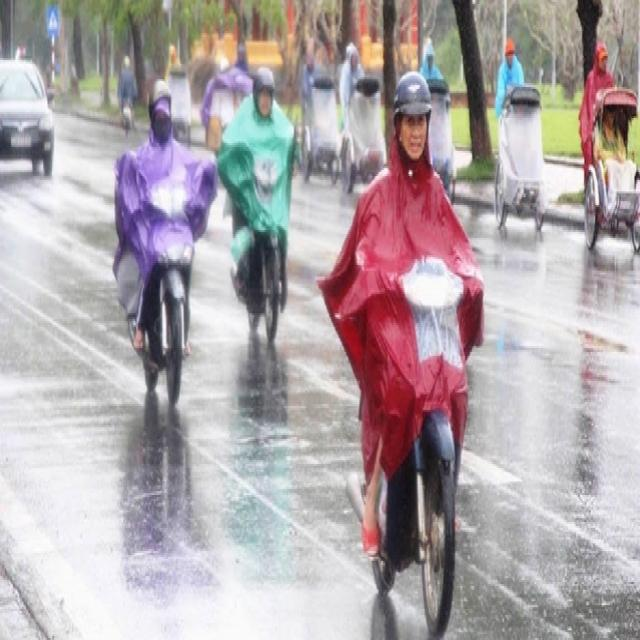1-2-helmet: (391, 65, 434, 121)
